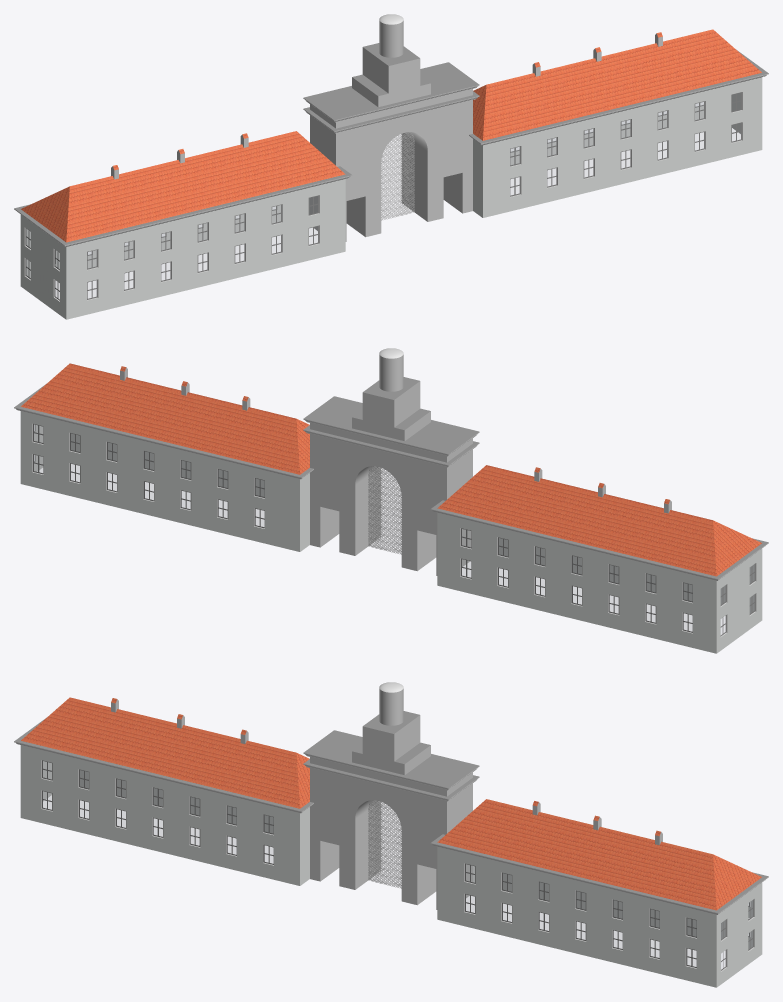
Rendered from ruzhansky-dvorets.glb.
3 renders of one model, top to bottom at view 1: azimuth 30°, elevation 25°; view 2: azimuth 150°, elevation 25°; view 3: azimuth 330°, elevation 25°, orthographic.
Parts seen in each view (by area): view 1: Geom3D (×5), Geom3D_; view 2: Geom3D (×5), Geom3D_; view 3: Geom3D (×5), Geom3D_.
Part boxes in pixels (x1=…): Geom3D (×5): x1=14, y1=29, x2=768, y2=319; Geom3D_: x1=14, y1=14, x2=768, y2=301; Geom3D (×5): x1=14, y1=363, x2=768, y2=653; Geom3D_: x1=14, y1=348, x2=768, y2=637; Geom3D (×5): x1=14, y1=697, x2=768, y2=987; Geom3D_: x1=14, y1=682, x2=768, y2=971.
Size of the model in its own units: 66.8 by 18.2 by 8.3.
Materials: 5 (2 with a texture image).
